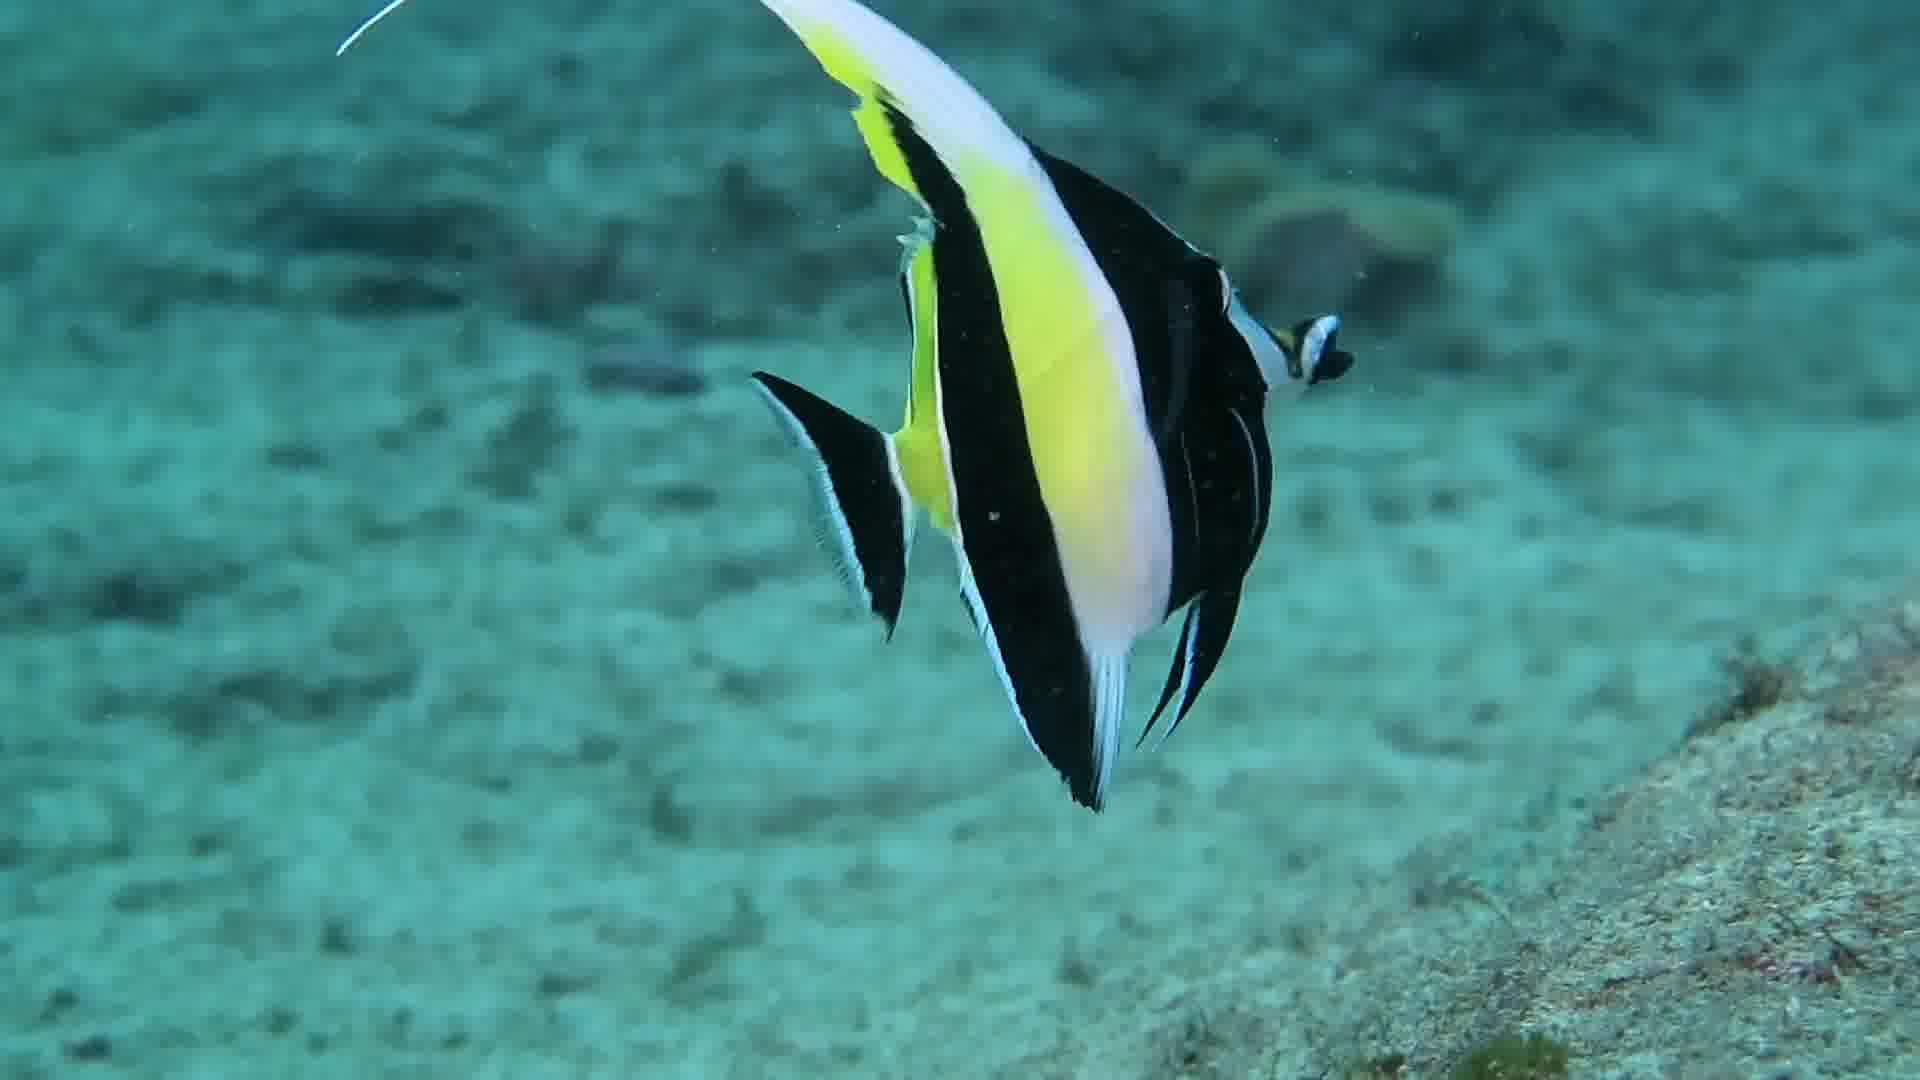Zanclus cornutus: (688, 11, 1369, 829)
